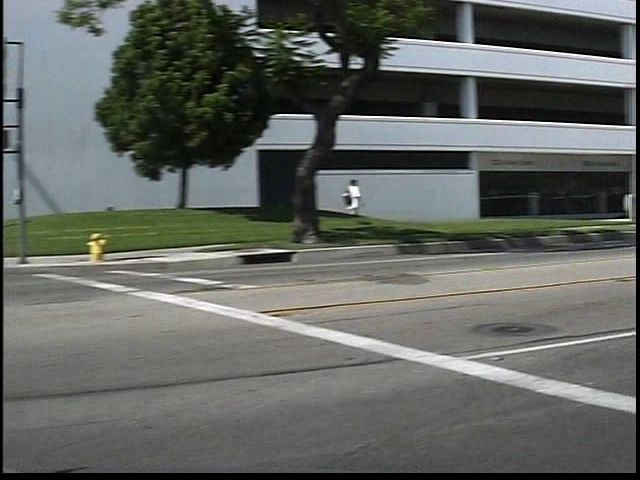person: (360, 176, 385, 237)
